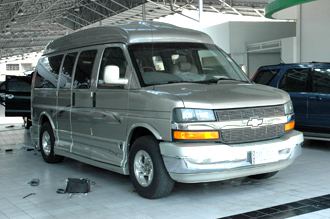van: (29, 21, 304, 199)
